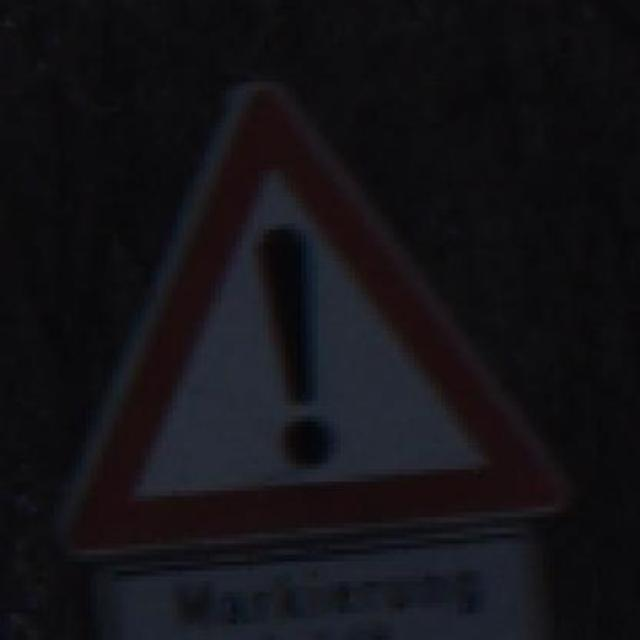Attention Please-: (59, 63, 570, 554)
